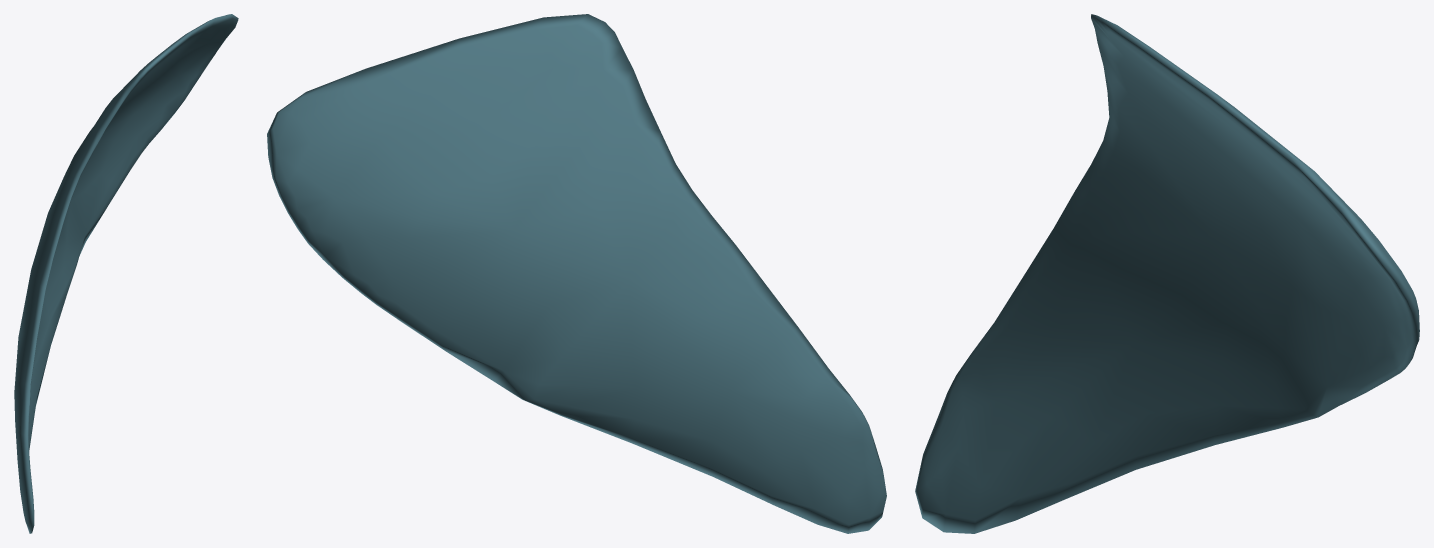
File: Gluteus_medius_greater_trochanter_left_001.glb
3 renders of one model, left to right at view 1: azimuth 30°, elevation 25°; view 2: azimuth 150°, elevation 25°; view 3: azimuth 270°, elevation 25°, orthographic. The views are drawn at different scales.
Parts seen in each view (by area): view 1: Gluteus_medius_on_greater_trochanter.l.001_Generated_Mesh_Fr; view 2: Gluteus_medius_on_greater_trochanter.l.001_Generated_Mesh_Fr; view 3: Gluteus_medius_on_greater_trochanter.l.001_Generated_Mesh_Fr.
Part boxes in pixels (x1=…): Gluteus_medius_on_greater_trochanter.l.001_Generated_Mesh_Fr: x1=14, y1=14, x2=238, y2=533; Gluteus_medius_on_greater_trochanter.l.001_Generated_Mesh_Fr: x1=267, y1=14, x2=886, y2=533; Gluteus_medius_on_greater_trochanter.l.001_Generated_Mesh_Fr: x1=915, y1=14, x2=1419, y2=533.
Bounding box in the file's own units: 0.0238 × 0.0261 × 0.0182.
